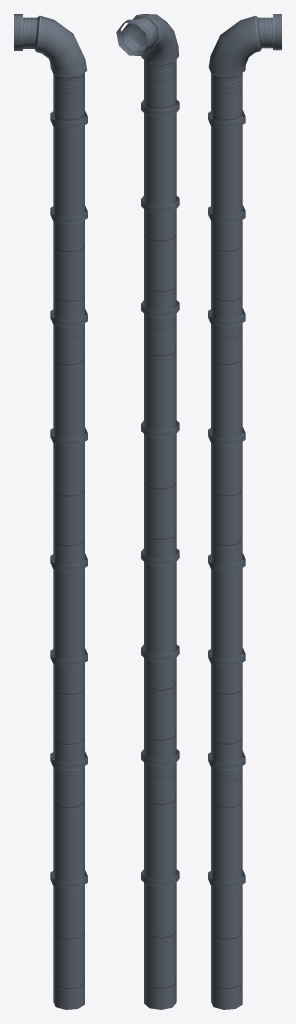
Rendered from Pipe2_LOD1.fbx.
The picture shows the model from 3 angles, left to right: view 1: azimuth 90°, elevation 25°; view 2: azimuth 150°, elevation 25°; view 3: azimuth 270°, elevation 25°; orthographic projection.
Visible parts, largest first — view 1: polySurface1251; view 2: polySurface1251; view 3: polySurface1251.
Part boxes in pixels (<box>): polySurface1251: <box>14,14,87,1009</box>; polySurface1251: <box>116,14,179,1009</box>; polySurface1251: <box>208,14,281,1009</box>.
Size of the model in its own units: 19.71 by 572 by 38.71.
